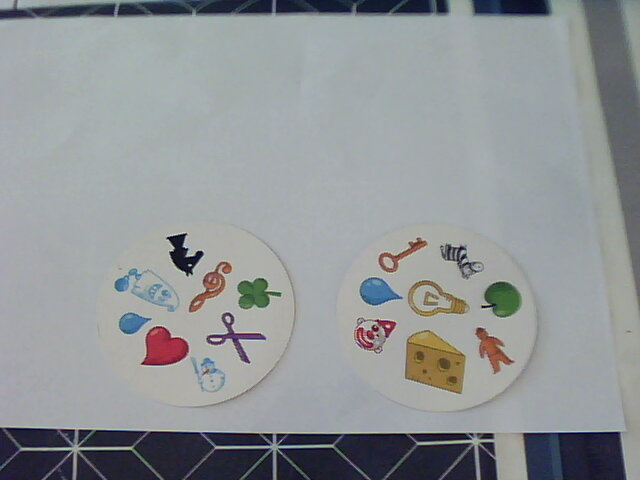ampoule: (405, 276, 471, 320)
bonhomme: (470, 323, 518, 378)
bonhomme_neige: (188, 349, 229, 397)
cheval: (162, 229, 206, 279)
ciseau: (205, 308, 268, 366)
cle: (376, 234, 428, 278)
clown: (349, 313, 398, 357)
coeur: (134, 323, 191, 371)
fantome: (112, 264, 182, 316)
fromage: (403, 328, 468, 396)
goutte: (357, 274, 404, 308), (117, 311, 156, 338)
note: (190, 258, 233, 315)
pomme: (477, 279, 524, 319)
trefle: (234, 274, 284, 311)
zebre: (437, 240, 489, 282)
